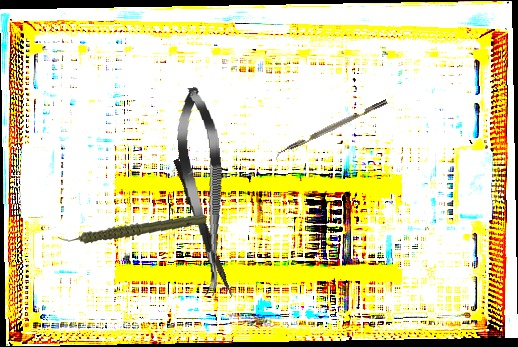Chopper: (272, 99, 391, 162)
Handpiece: (57, 200, 207, 256)
Micro Scissor: (172, 85, 235, 298)
Pusher: (169, 158, 239, 298)
